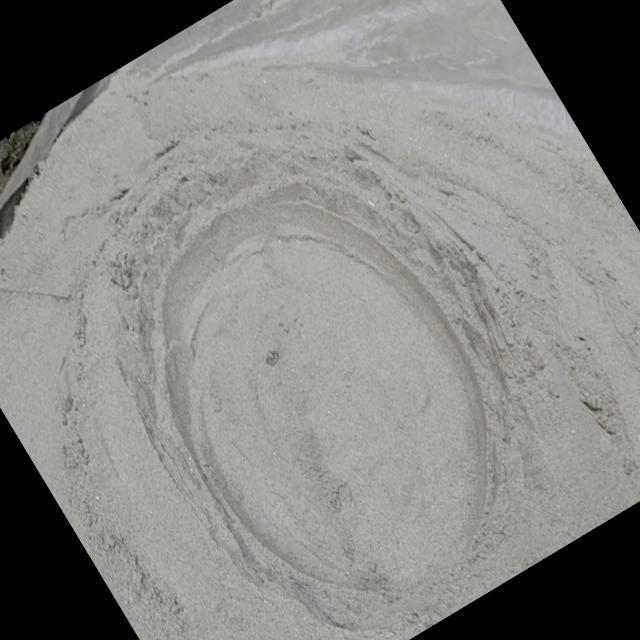C40: (124, 173, 509, 615)
